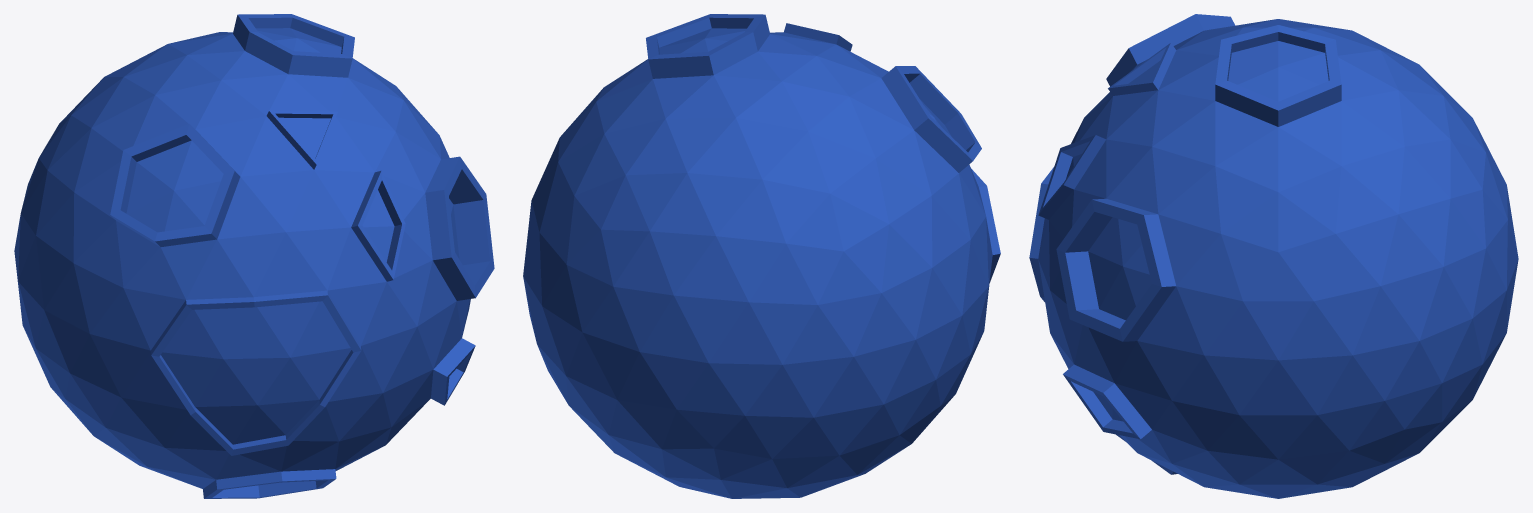
Rendered from studies-planet.glb.
3 views of the same model, side by side, from view 1: azimuth 30°, elevation 25°; view 2: azimuth 150°, elevation 25°; view 3: azimuth 270°, elevation 25° (orthographic). The views are drawn at different scales.
Parts seen in each view (by area): view 1: Icosphere; view 2: Icosphere; view 3: Icosphere.
Boxes of the visible parts, box(x1,y1,x2,y2) form: Icosphere: box(14, 14, 494, 498); Icosphere: box(523, 14, 1000, 498); Icosphere: box(1029, 14, 1518, 498).
Bounding box in the file's own units: 6 × 6.27 × 6.11.
